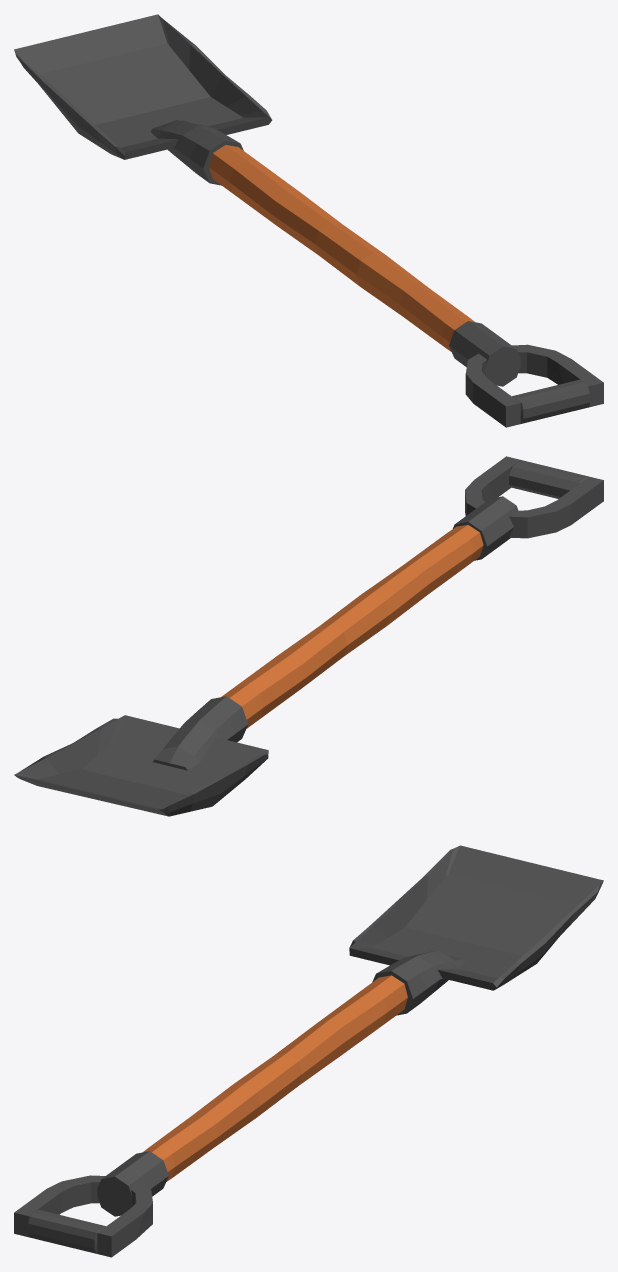
Rendered from collection_farm_garden_toolblend.glb.
The picture shows the model from 3 angles, top to bottom: view 1: azimuth 30°, elevation 25°; view 2: azimuth 150°, elevation 25°; view 3: azimuth 330°, elevation 25°; orthographic projection.
Visible parts, largest first — view 1: Shovel; view 2: Shovel; view 3: Shovel.
Boxes of the visible parts, bbox=[...] form: Shovel: bbox=[14, 14, 603, 427]; Shovel: bbox=[14, 456, 603, 816]; Shovel: bbox=[14, 845, 603, 1257].
Size of the model in its own units: 1.55 by 0.503 by 8.32.
